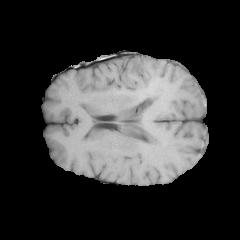glioma: (77, 56, 176, 138)
